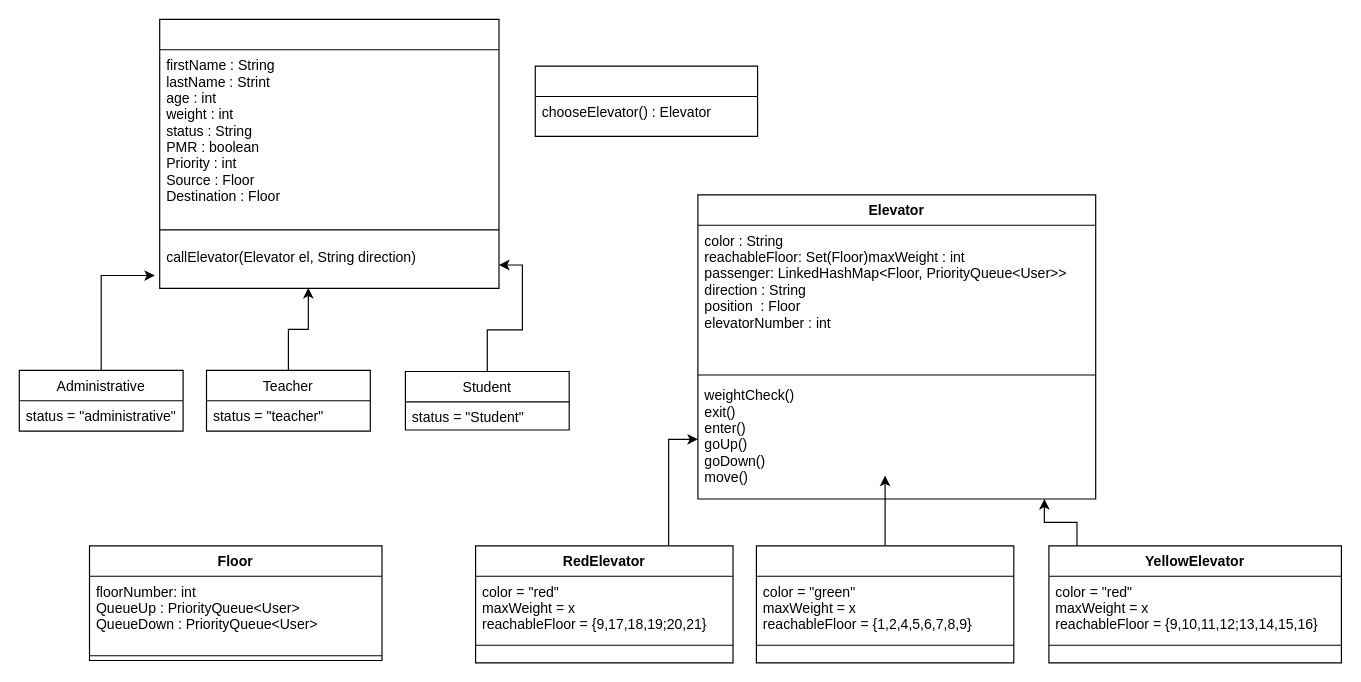
Some shapes in this 1361 by 682 pixel diagram are drawn without their labels. The shapes that lost their labels are listed below. From the top down, each one's box as (x1, y1, x2, y2) in pixels, then its label:
(534, 65, 758, 136): Dispatcher
(159, 18, 499, 288): User
(755, 545, 1014, 663): GreenElevator
